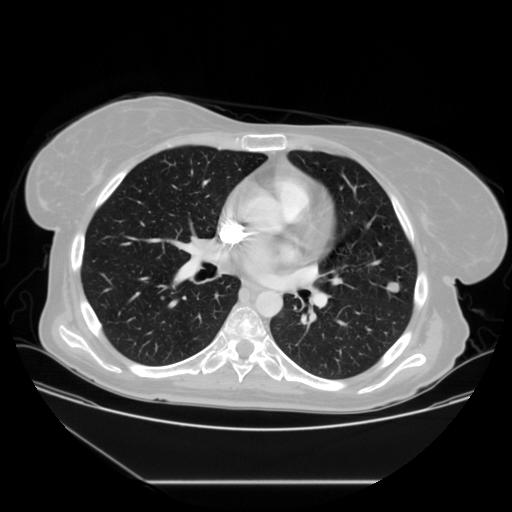nodule: (385, 279, 401, 295)
